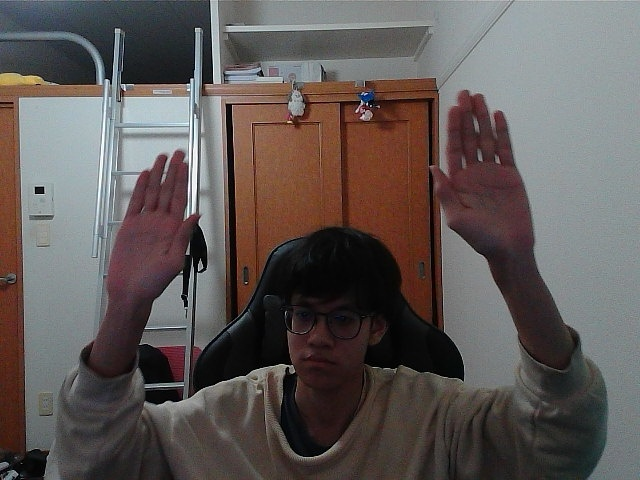open_palm: (129, 155, 193, 283)
